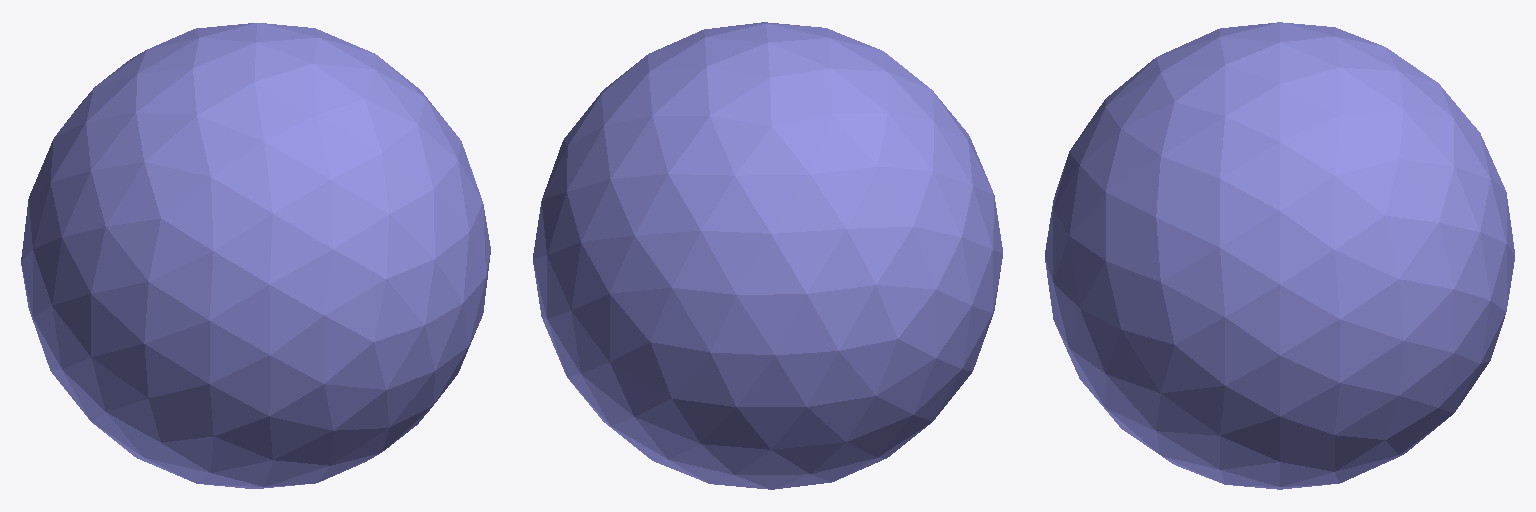
3 views of the same model, side by side, from view 1: azimuth 30°, elevation 25°; view 2: azimuth 150°, elevation 25°; view 3: azimuth 270°, elevation 25° (orthographic).
Visible parts, largest first — view 1: GeoSphere001; view 2: GeoSphere001; view 3: GeoSphere001.
Part boxes in pixels (x1,y1,x2,y2): GeoSphere001: (21,23,490,488); GeoSphere001: (533,22,1002,489); GeoSphere001: (1045,22,1514,489).
Size of the model in its own units: 40.25 by 40.25 by 40.25.